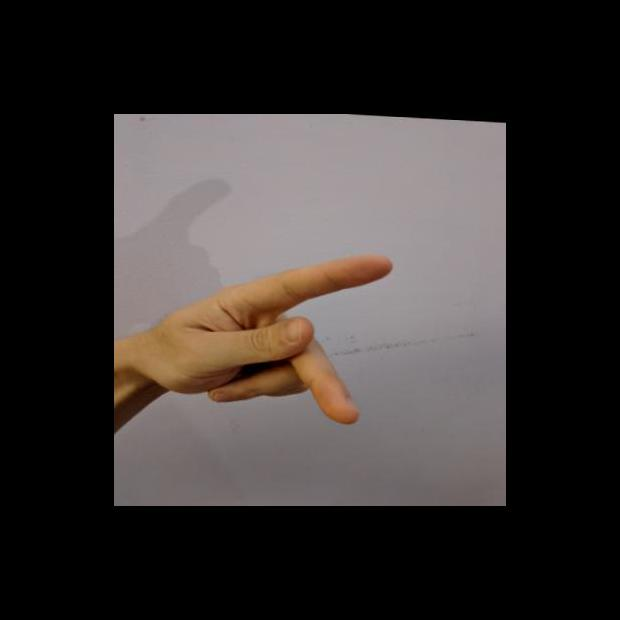O: (130, 238, 397, 427)
